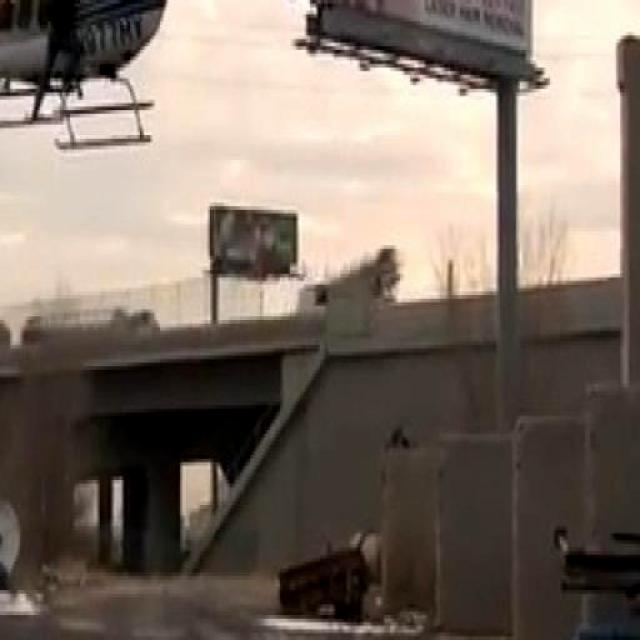drone: (0, 0, 358, 156)
